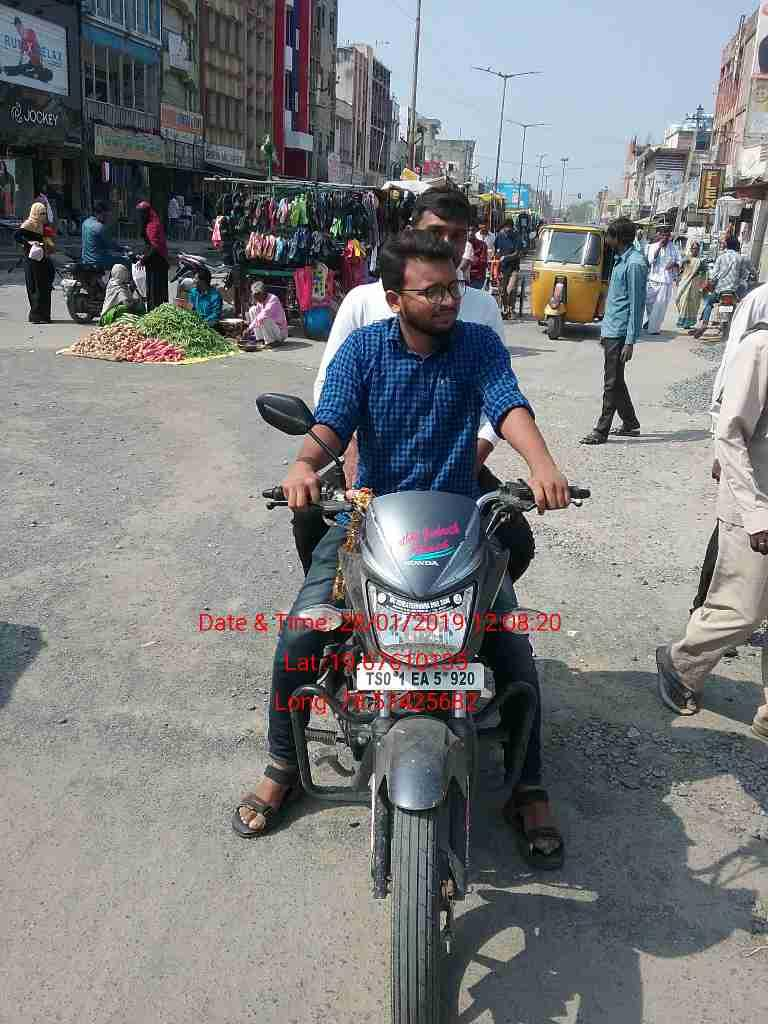plate: (354, 658, 496, 697)
